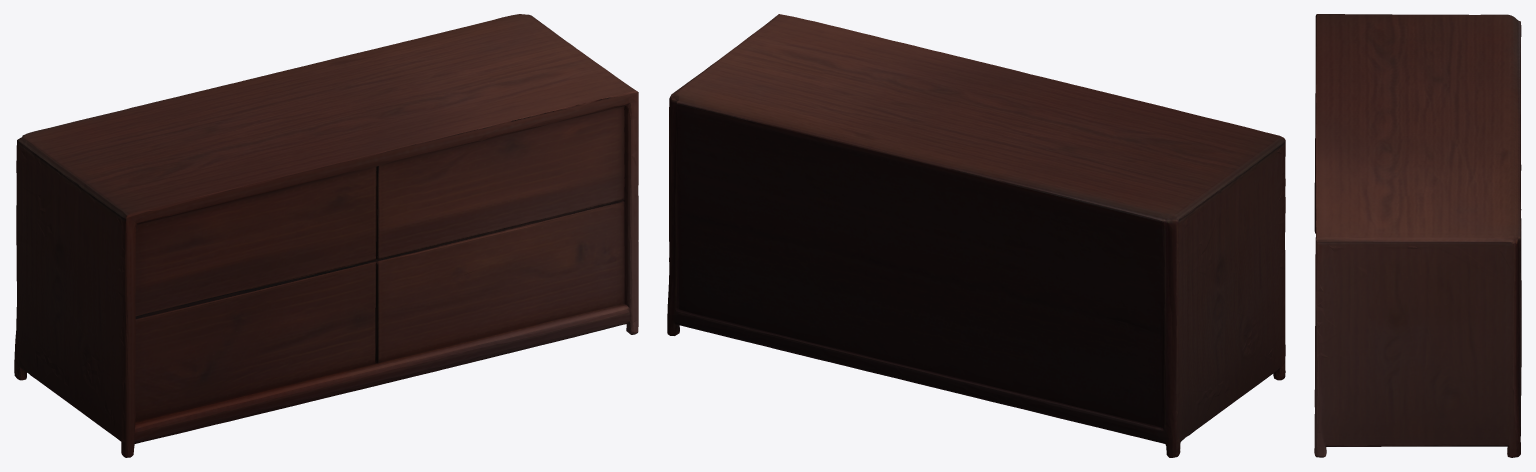
3 views of the same model, side by side, from view 1: azimuth 30°, elevation 25°; view 2: azimuth 150°, elevation 25°; view 3: azimuth 270°, elevation 25° (orthographic). The views are drawn at different scales.
Parts seen in each view (by area): view 1: world; view 2: world; view 3: world.
Boxes of the visible parts, <box> form: world: <box>14,14,638,457</box>; world: <box>667,14,1285,457</box>; world: <box>1314,14,1521,457</box>.
Size of the model in its own units: 1 by 0.4621 by 0.3876.
1 material, 1 textured.
